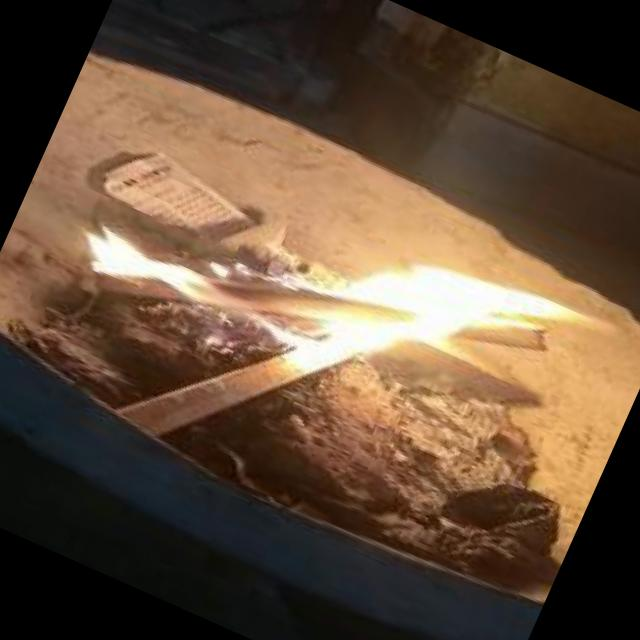fire: (54, 97, 614, 488)
